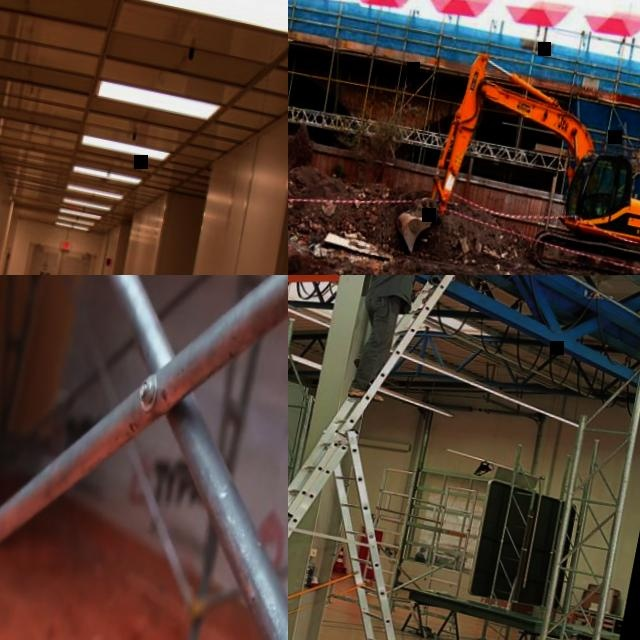NO-Safety Vest: (368, 275, 421, 305)
Person: (343, 275, 468, 412)
machinery: (390, 36, 640, 275)
